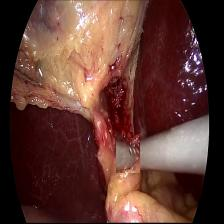Irrigator: (116, 132, 140, 173)
